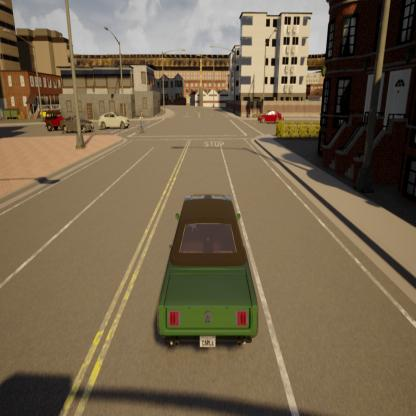Cars: (153, 170, 267, 363), (43, 102, 69, 134), (256, 105, 291, 125), (100, 110, 134, 128), (58, 116, 98, 130)
Pedestrian: (135, 102, 147, 135)
